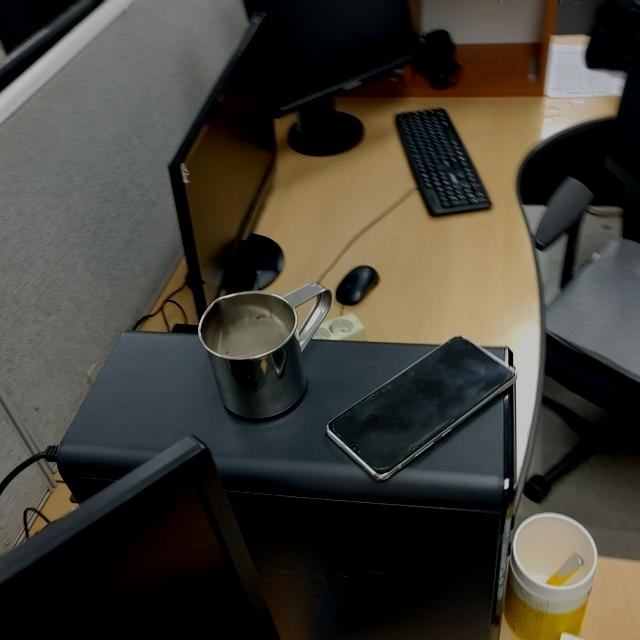cup: (196, 279, 336, 424)
phone: (324, 330, 517, 485)
